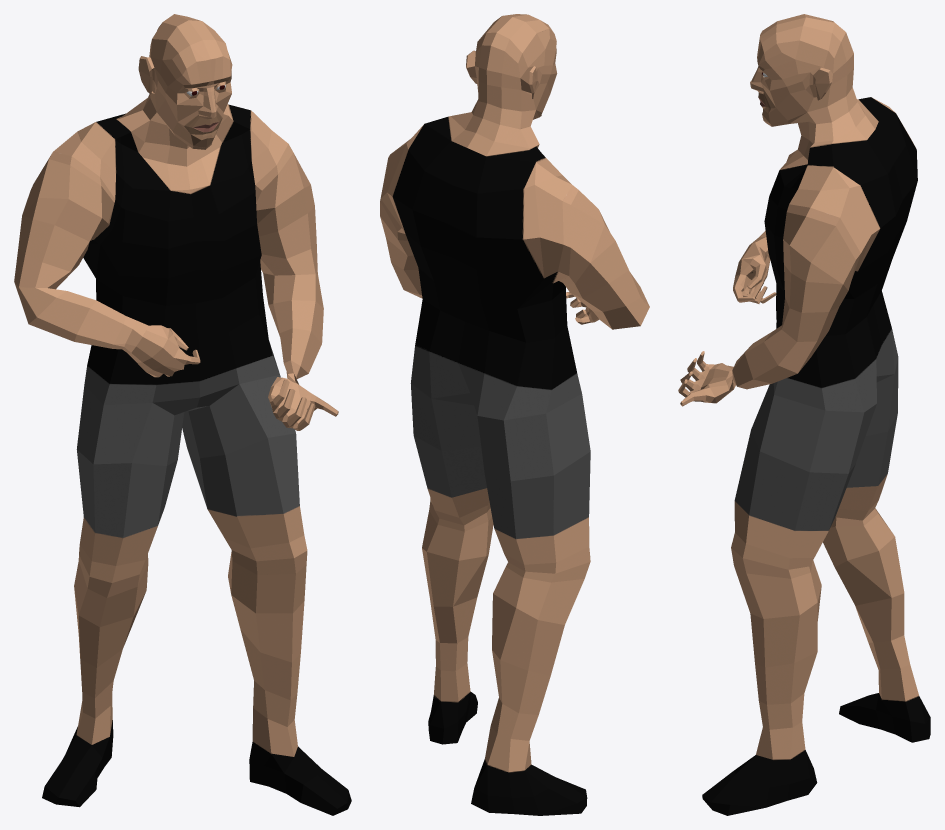
The model's file is PlayerIdle(47).obj.
The picture shows the model from 3 angles, left to right: view 1: azimuth 30°, elevation 25°; view 2: azimuth 150°, elevation 25°; view 3: azimuth 270°, elevation 25°; orthographic projection. The views are drawn at different scales.
Visible parts, largest first — view 1: Plane002; view 2: Plane002; view 3: Plane002.
Part boxes in pixels (x1,y1,x2,y2): Plane002: (14,14,351,815); Plane002: (380,14,649,815); Plane002: (678,14,930,815).
Bounding box in the file's own units: 673 × 1804 × 557.
